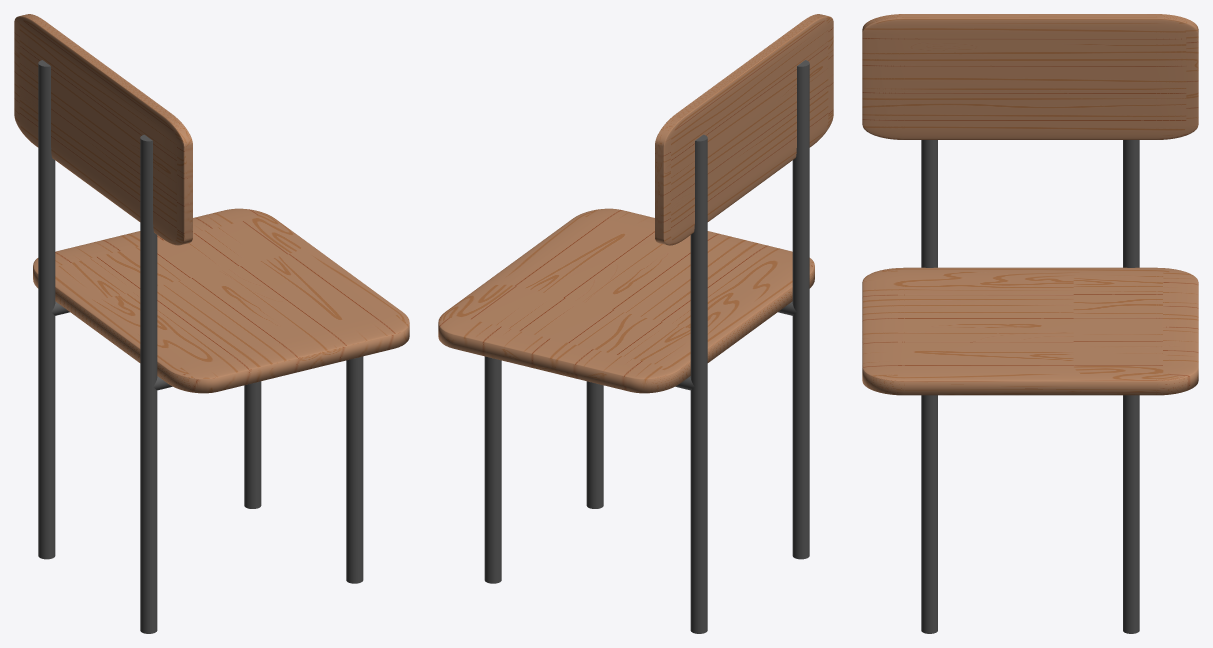
The model's file is Silla Salon.fbx.
3 renders of one model, left to right at view 1: azimuth 30°, elevation 25°; view 2: azimuth 150°, elevation 25°; view 3: azimuth 270°, elevation 25°, orthographic.
Parts seen in each view (by area): view 1: Asiento.004; view 2: Asiento.004; view 3: Asiento.004.
Boxes of the visible parts, left/top/right/bottom form: Asiento.004: left=14, top=14, right=409, bottom=633; Asiento.004: left=438, top=14, right=833, bottom=633; Asiento.004: left=862, top=14, right=1198, bottom=633.
Bounding box in the file's own units: 46.2 × 92.94 × 54.67.
2 materials, 1 textured.
